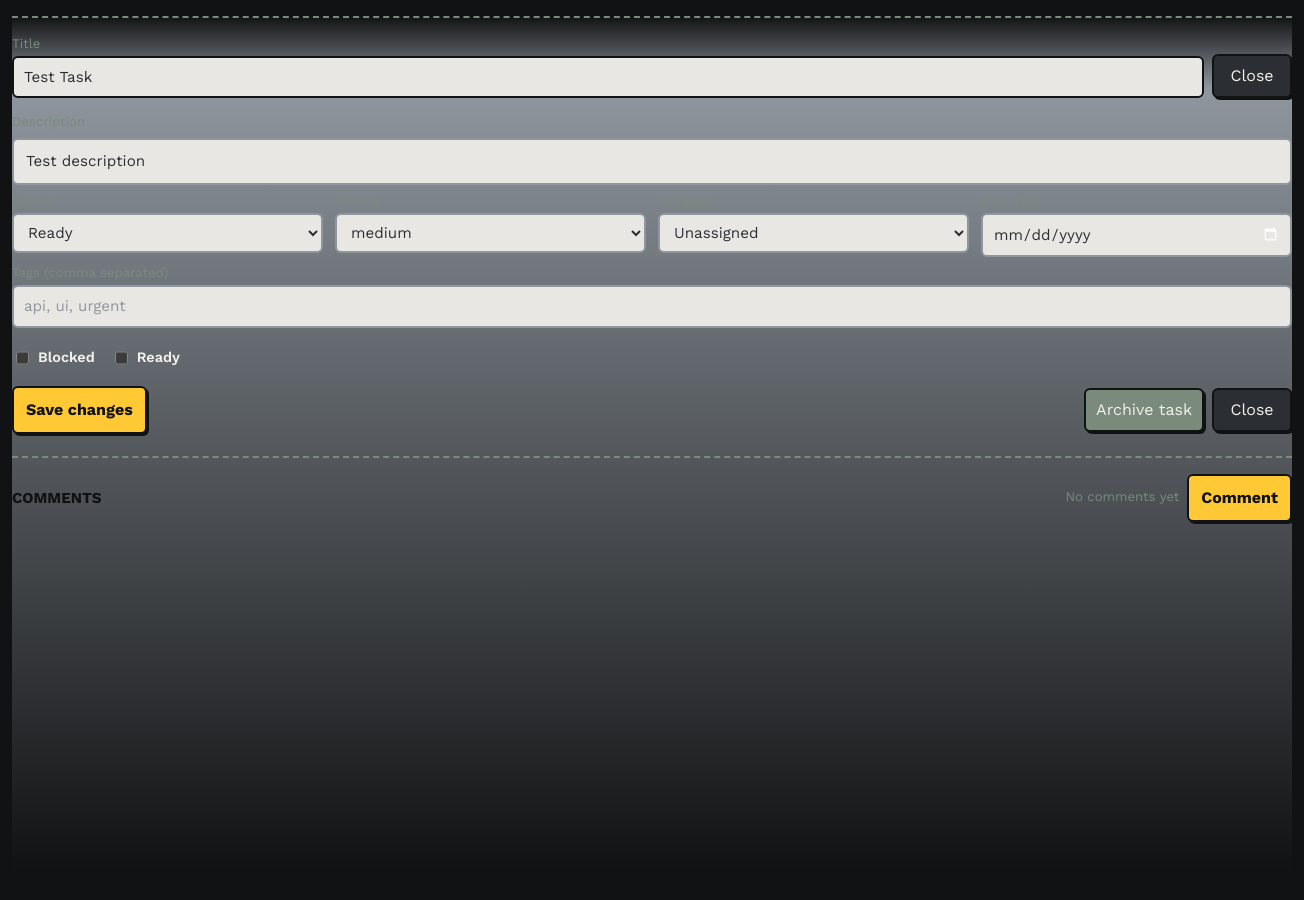
it: TaskEditor › switches back to preview mode when description loses focus
Click the button with aria-label "Click to edit description" at x=86, y=161, box [12, 138, 1292, 185]
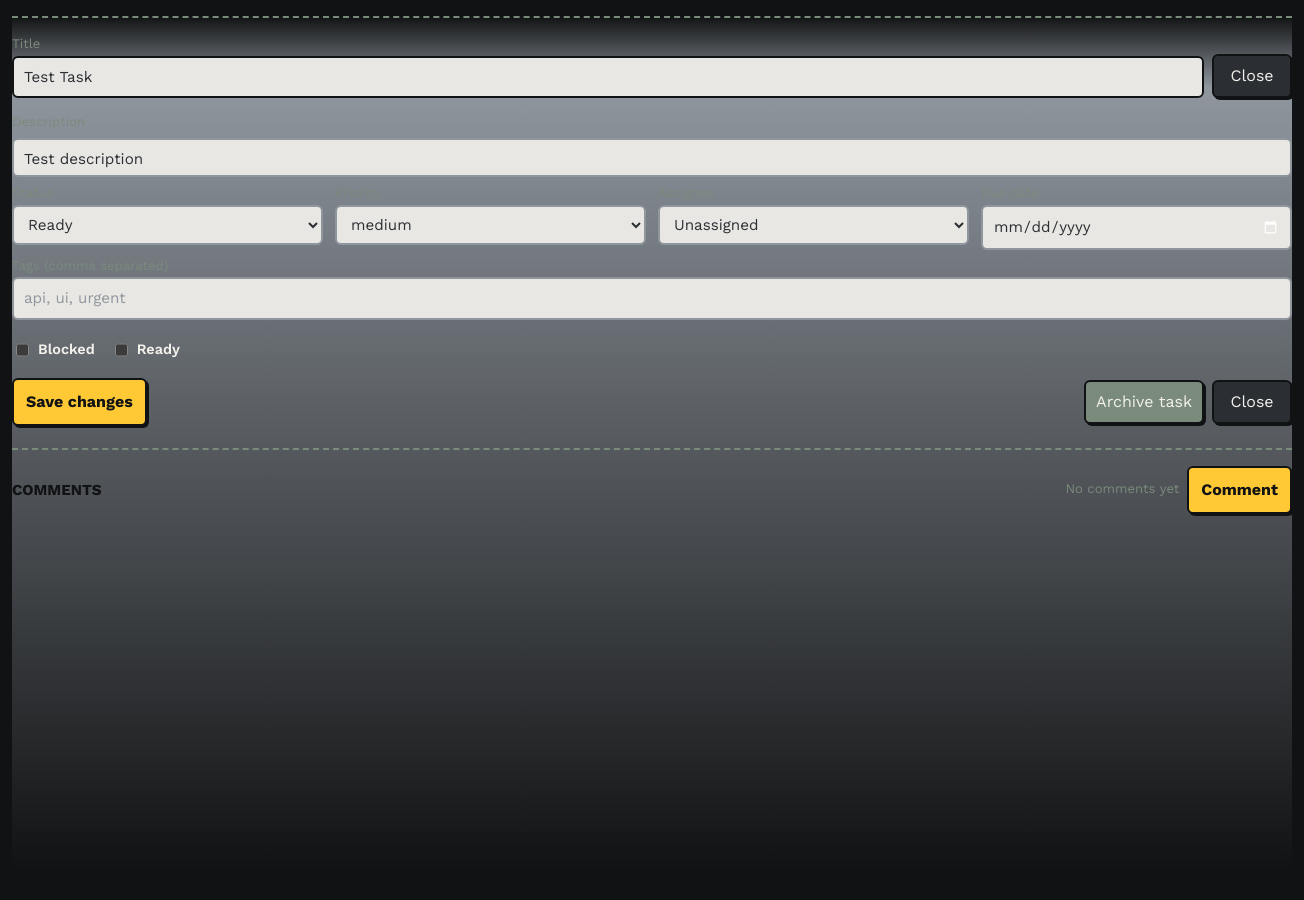
Leave the text box named "Detail description", box [12, 138, 1292, 177]
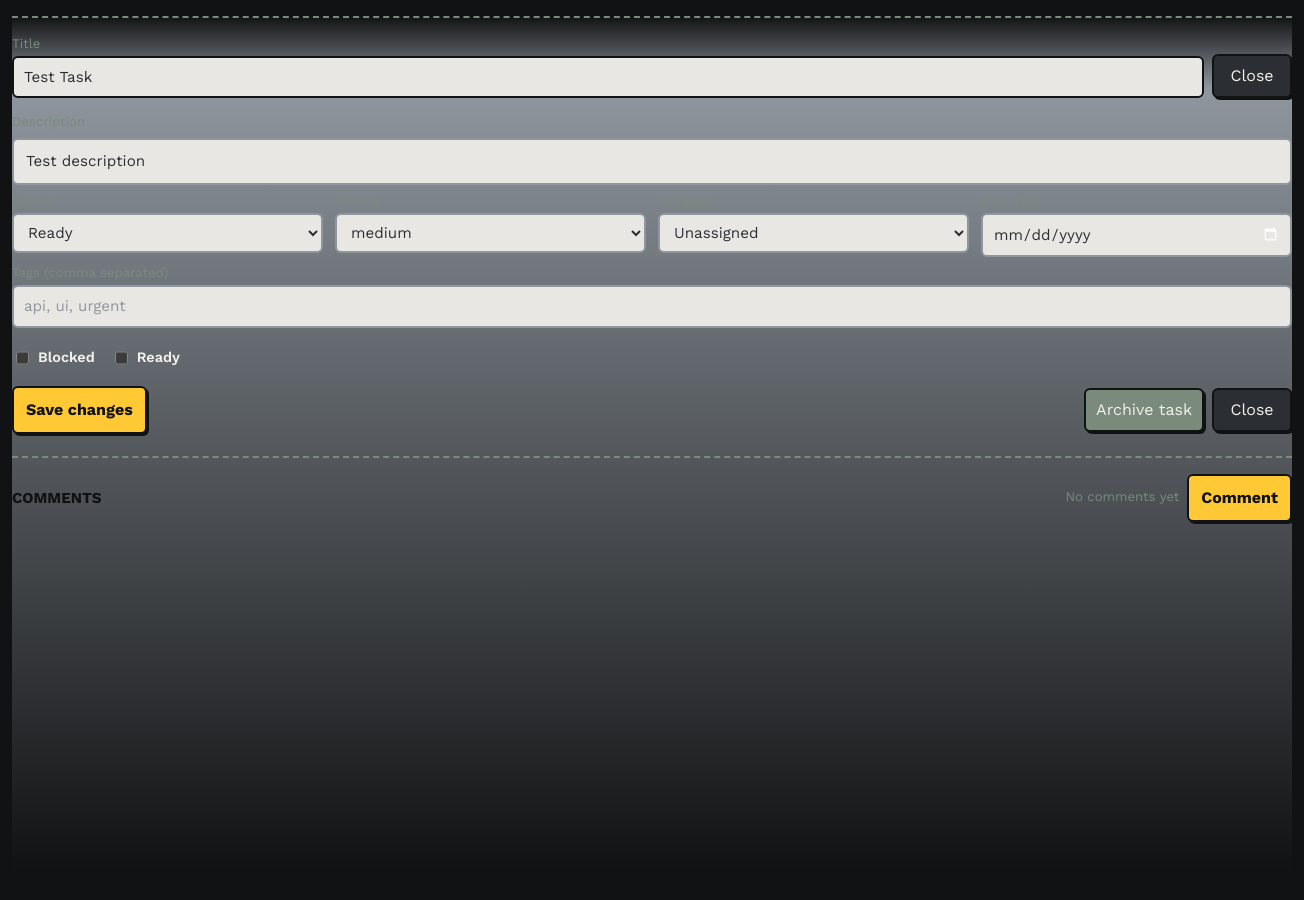
Check: the text "Test description" is shown, box [26, 152, 145, 170]
